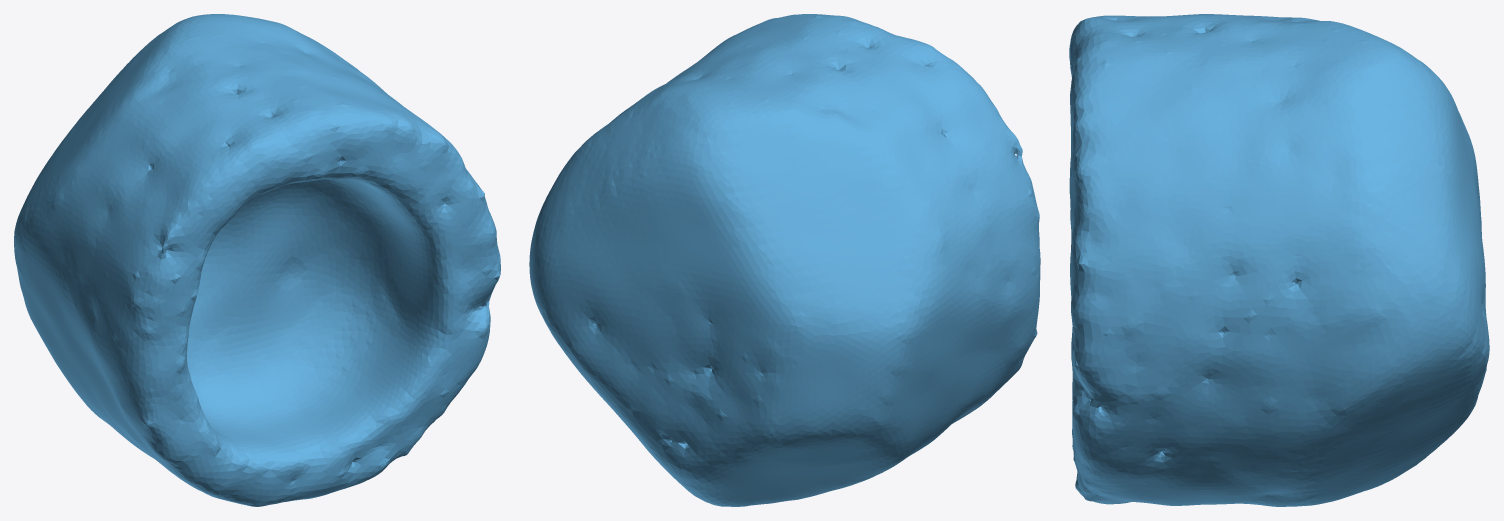
The model's file is cup1.obj.
3 views of the same model, side by side, from view 1: azimuth 30°, elevation 25°; view 2: azimuth 150°, elevation 25°; view 3: azimuth 270°, elevation 25° (orthographic). The views are drawn at different scales.
Size of the model in its own units: 0.8072 by 0.8052 by 0.6901.
